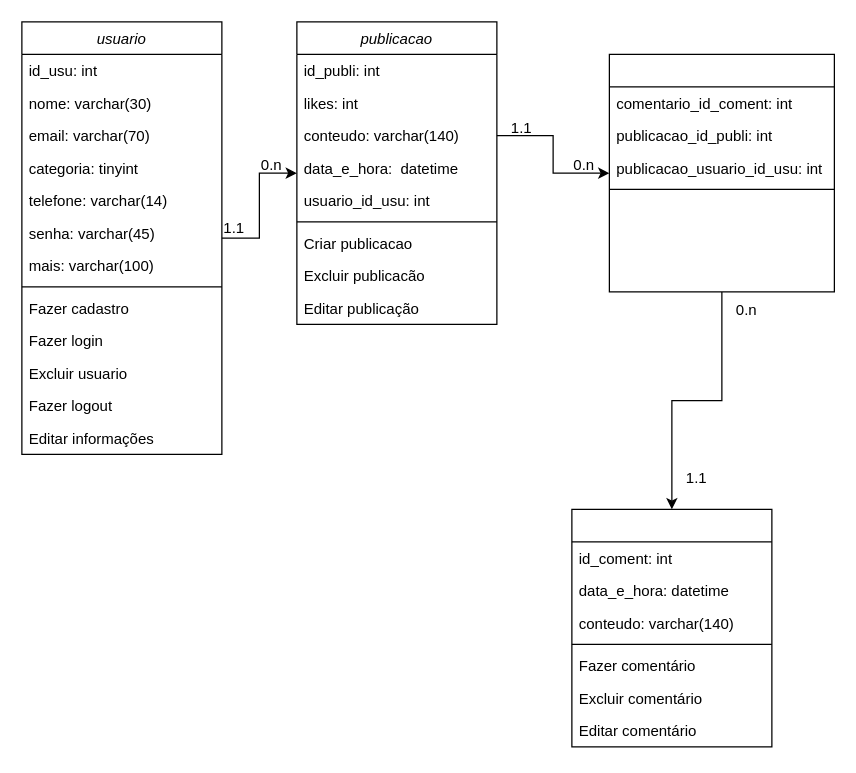
The diagram is 856 pixels wide and 773 high, and some of its shapes have lost their labels. Each missing label, with the box of its shape:
comentario: (571, 508, 772, 747)
comentario_has_publicacao: (608, 53, 834, 292)
